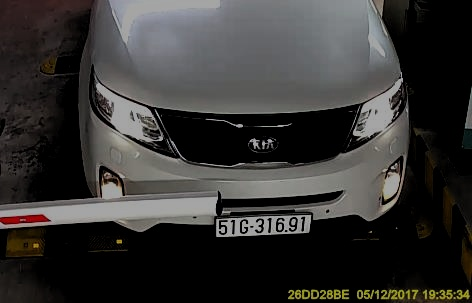plate: (211, 215, 313, 237)
